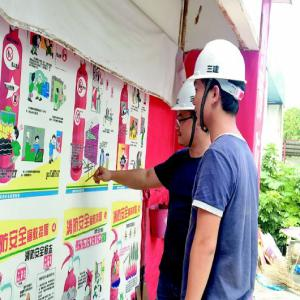white: (194, 40, 247, 132), (174, 75, 212, 147)
